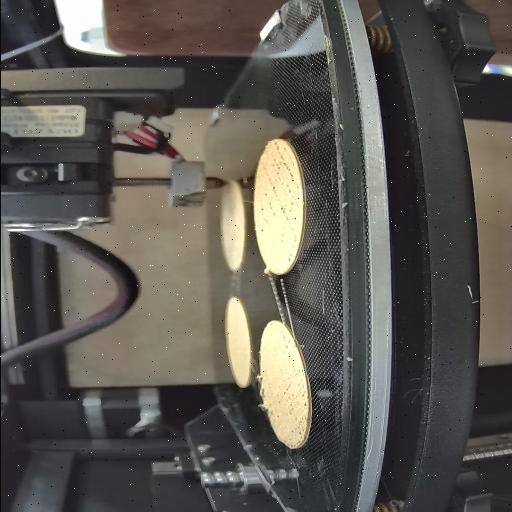under_extrusion: (261, 143, 297, 218), (274, 383, 305, 435), (282, 331, 300, 371), (282, 232, 298, 264)
